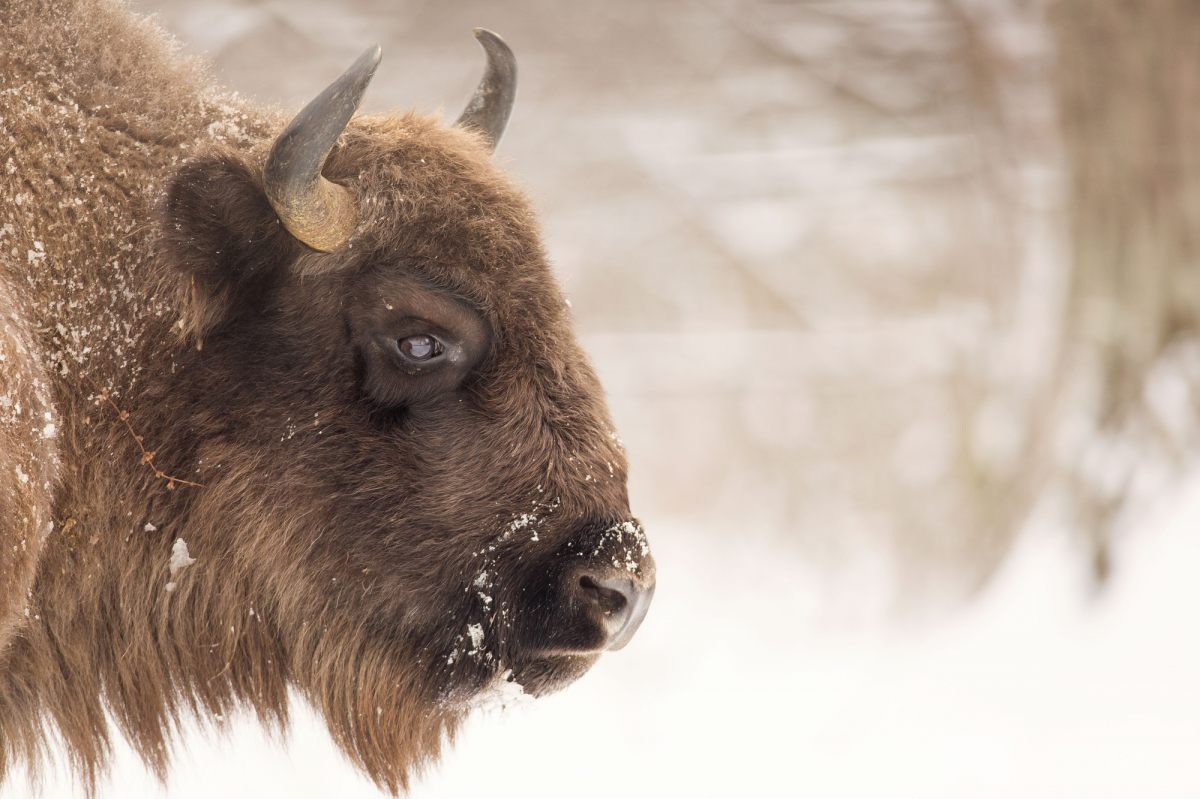zubr: (1, 12, 717, 791)
